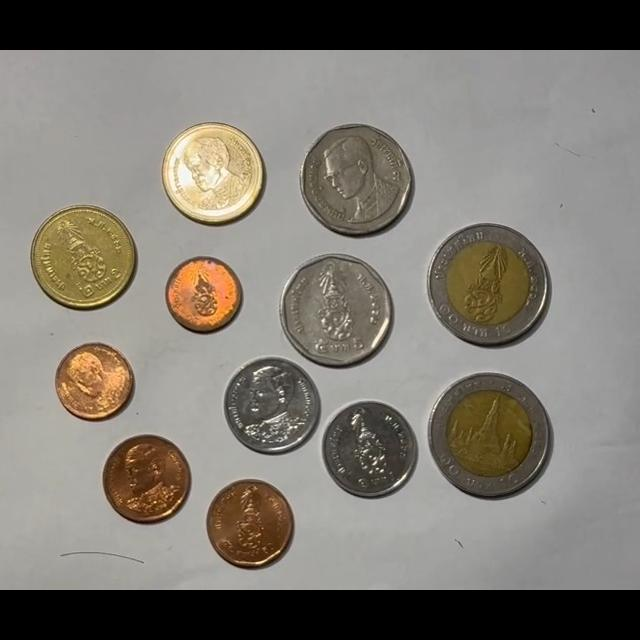1-baht: (224, 356, 321, 454), (322, 401, 419, 498)
10-baht: (428, 373, 552, 498), (427, 223, 552, 345)
2-baht: (30, 205, 136, 311), (161, 122, 266, 225)
25-satang: (55, 343, 134, 421), (166, 256, 243, 332)
5-baht: (279, 253, 394, 367), (299, 123, 414, 236)
50-satang: (103, 434, 191, 523), (206, 480, 294, 568)
